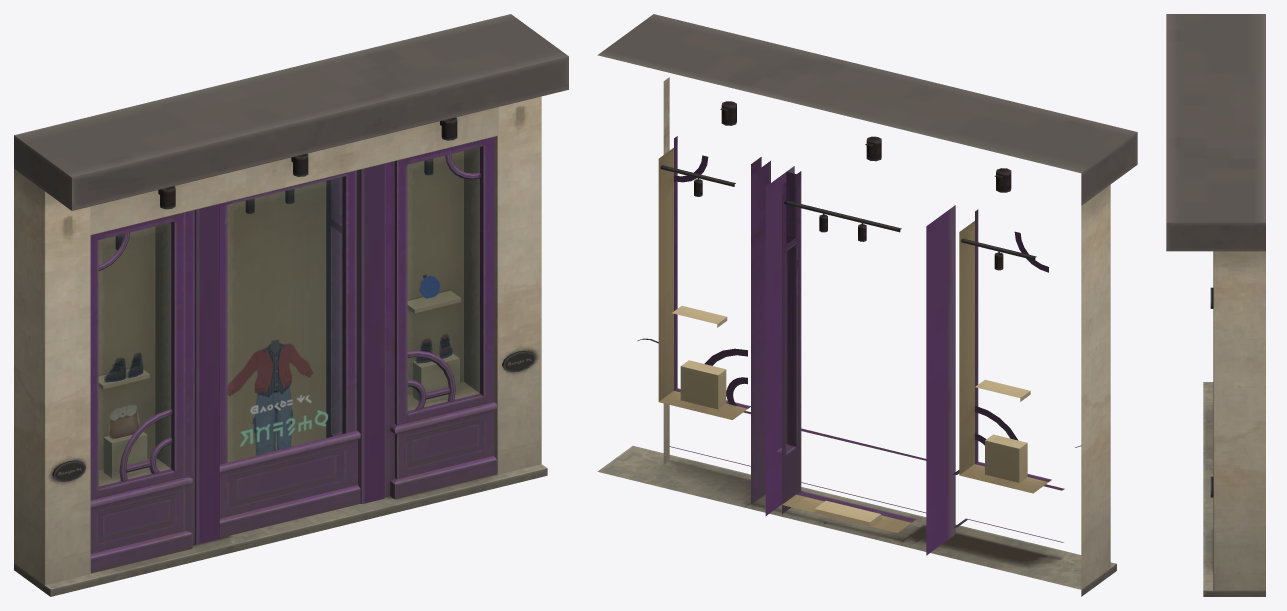
The model's file is t1_b_boutique2_a_wall.glb.
3 views of the same model, side by side, from view 1: azimuth 30°, elevation 25°; view 2: azimuth 150°, elevation 25°; view 3: azimuth 270°, elevation 25° (orthographic). The views are drawn at different scales.
Parts seen in each view (by area): view 1: nomerge_t1_b_boutique2_a_wall_mesh; view 2: nomerge_t1_b_boutique2_a_wall_mesh; view 3: nomerge_t1_b_boutique2_a_wall_mesh.
Boxes of the visible parts, box(x1,y1,x2,y2) form: nomerge_t1_b_boutique2_a_wall_mesh: box(14, 14, 568, 596); nomerge_t1_b_boutique2_a_wall_mesh: box(597, 14, 1137, 596); nomerge_t1_b_boutique2_a_wall_mesh: box(1166, 14, 1265, 596).
Size of the model in its own units: 5.5 by 4.6 by 1.18.
Materials: 3 (3 with a texture image).
